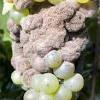Grape Rotten: (7, 0, 95, 99)
